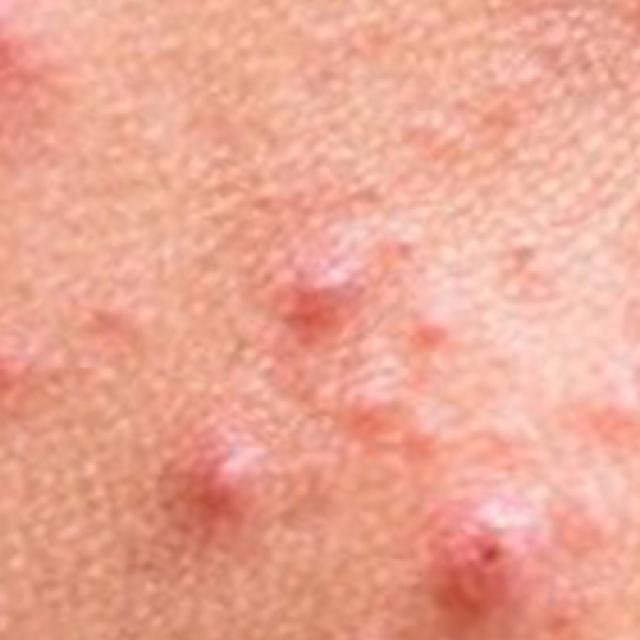acne: (269, 218, 480, 452), (405, 484, 636, 622), (160, 410, 290, 530), (68, 256, 166, 361), (578, 358, 638, 461)
